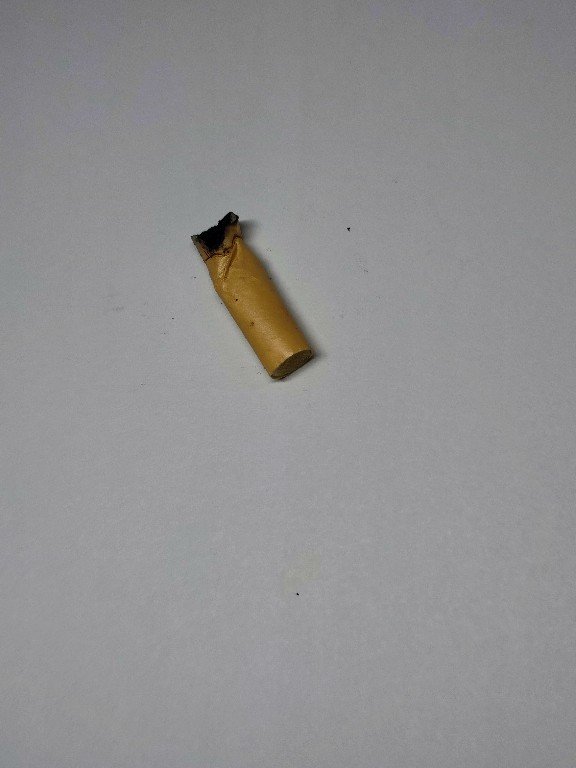cigarette: (188, 209, 317, 385)
